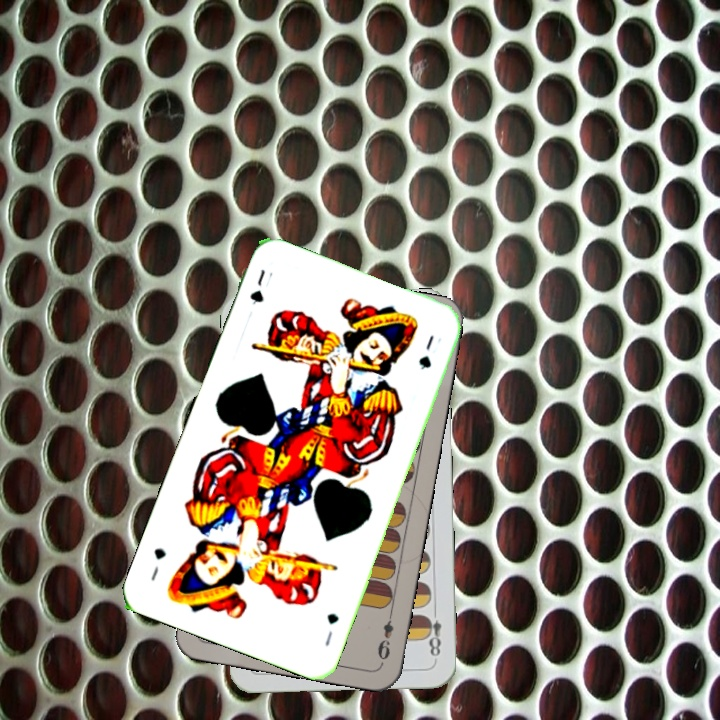E8: (421, 603, 444, 659)
E9: (373, 607, 397, 666)
GU: (245, 265, 276, 307), (320, 609, 342, 649)
